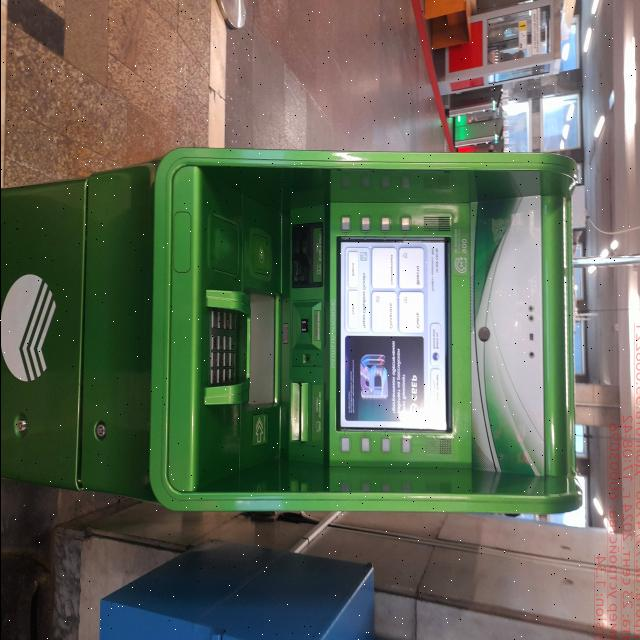bank: (0, 153, 581, 513)
